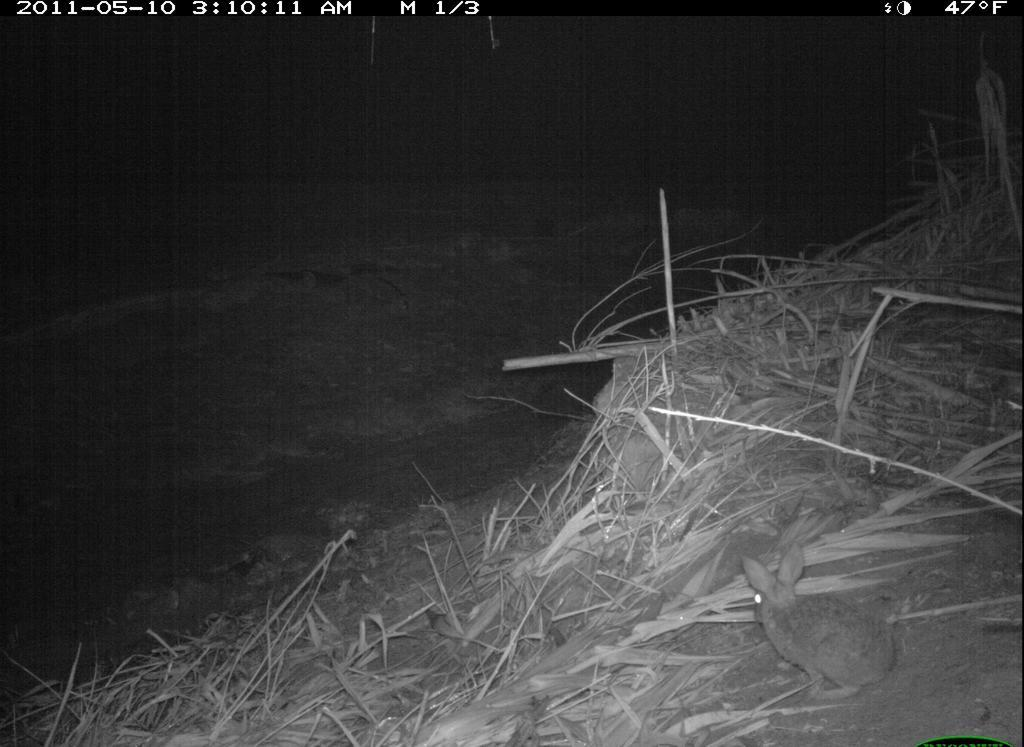rabbit: (738, 536, 914, 706)
